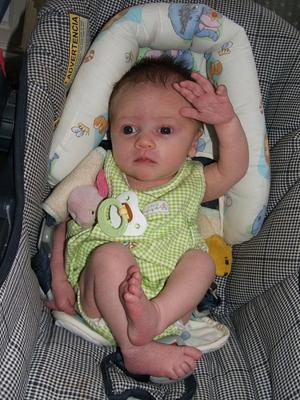person: (49, 54, 250, 381)
